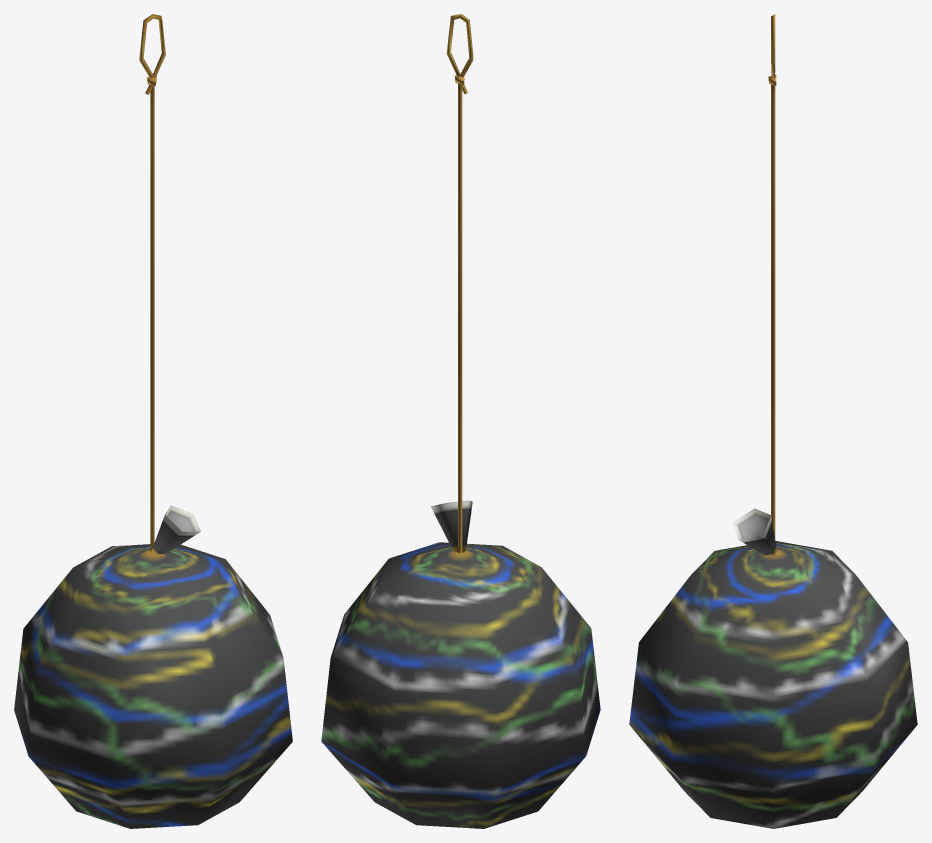
Rendered from jsf_WaterBalloon_13_a.fbx.
3 views of the same model, side by side, from view 1: azimuth 30°, elevation 25°; view 2: azimuth 150°, elevation 25°; view 3: azimuth 270°, elevation 25° (orthographic).
Visible parts, largest first — view 1: jsf_WaterBalloon_13_a; view 2: jsf_WaterBalloon_13_a; view 3: jsf_WaterBalloon_13_a.
Part boxes in pixels (x1,y1,x2,y2): jsf_WaterBalloon_13_a: [14, 14, 292, 828]; jsf_WaterBalloon_13_a: [321, 14, 600, 828]; jsf_WaterBalloon_13_a: [629, 14, 917, 828].
Size of the model in its own units: 10.92 by 33.54 by 10.92.
